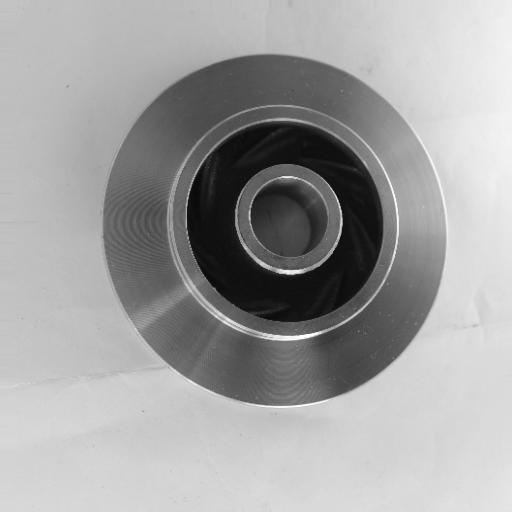polished_casting: (103, 50, 451, 410)
